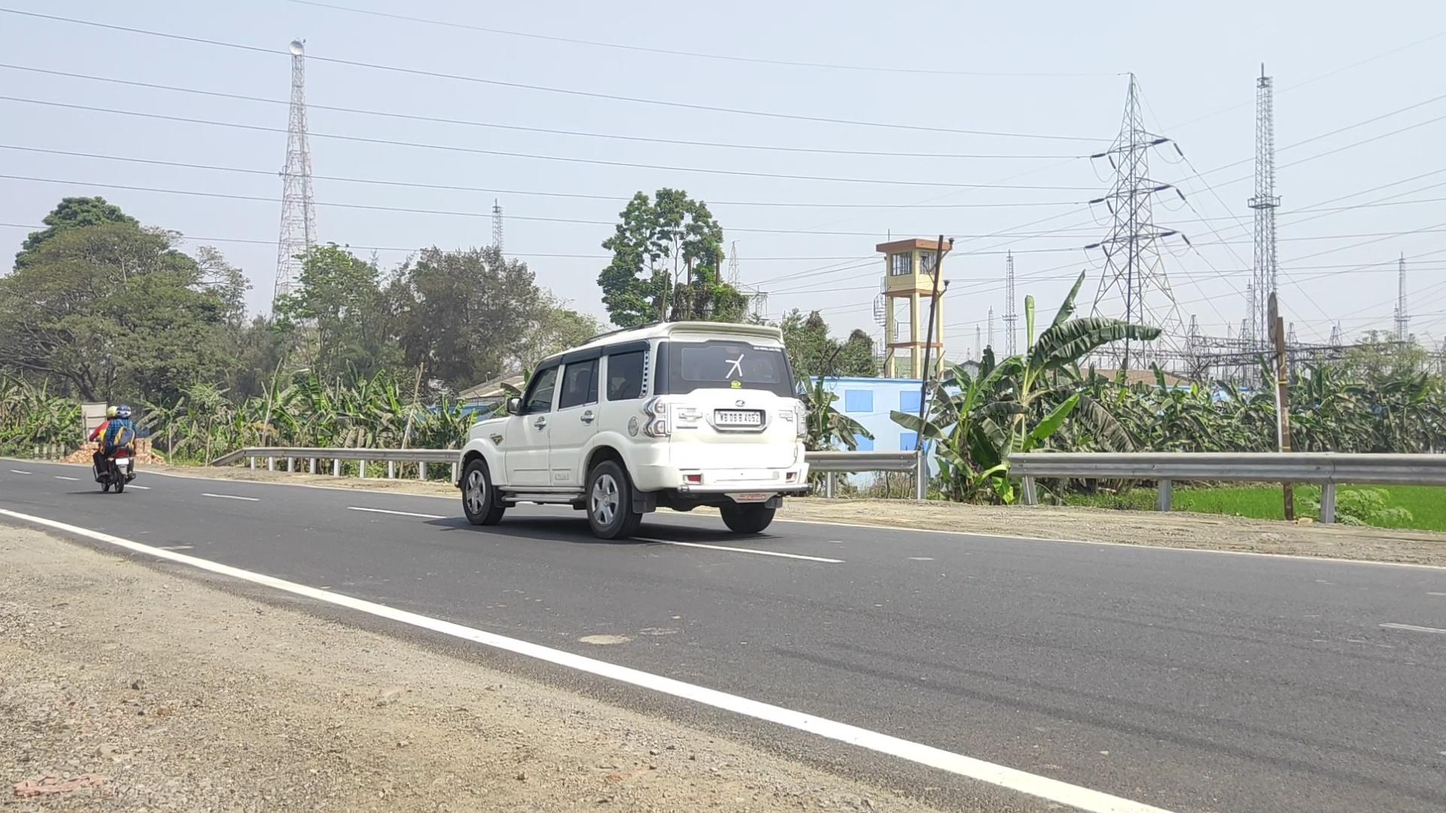bike: (89, 404, 137, 494)
car: (454, 321, 813, 541)
